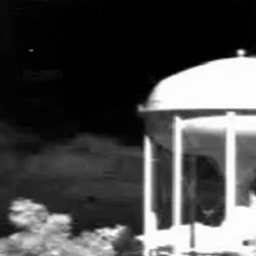Target: (27, 48, 34, 52)
